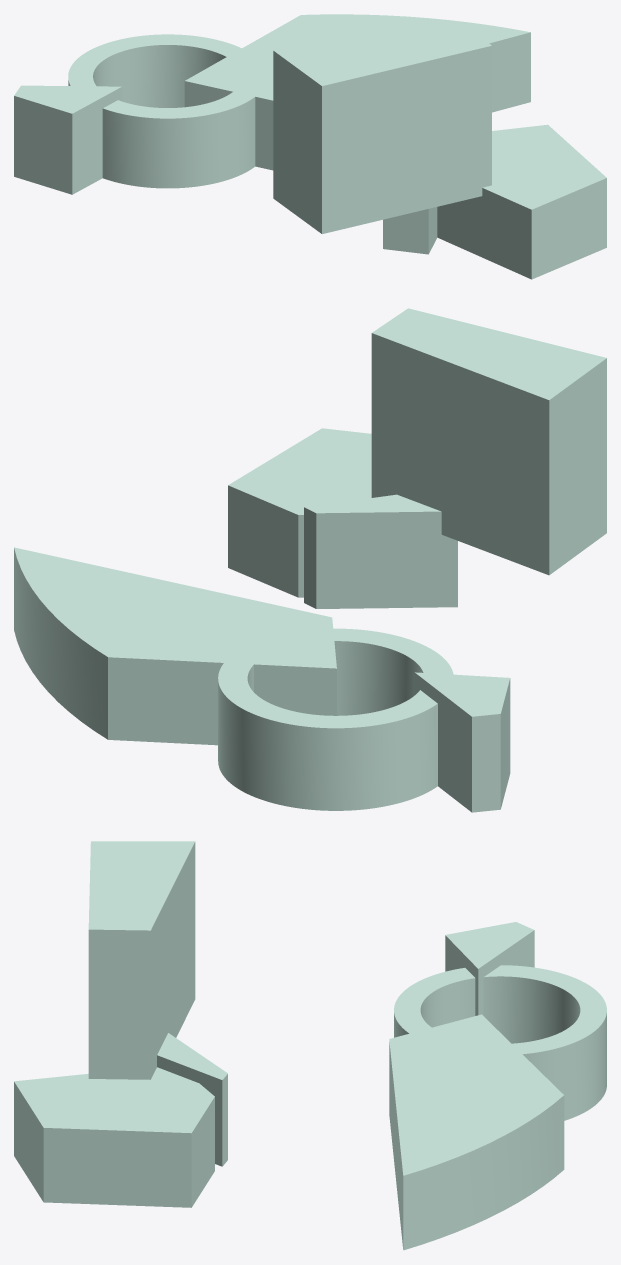
3 views of the same model, one above another, from view 1: azimuth 30°, elevation 25°; view 2: azimuth 150°, elevation 25°; view 3: azimuth 270°, elevation 25° (orthographic). The views are drawn at different scales.
Parts seen in each view (by area): view 1: Renderer Node; view 2: Renderer Node; view 3: Renderer Node.
Part boxes in pixels (x1,y1,x2,y2): Renderer Node: (14,14,606,279); Renderer Node: (14,308,606,812); Renderer Node: (14,841,606,1250).
Bounding box in the file's own units: 1.36 × 0.5859 × 1.41.
